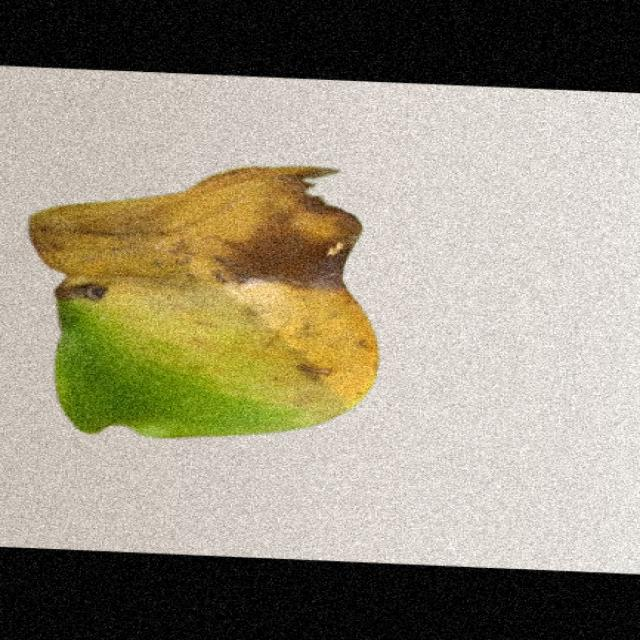daun berpenyakit kuning: (32, 166, 375, 437)
